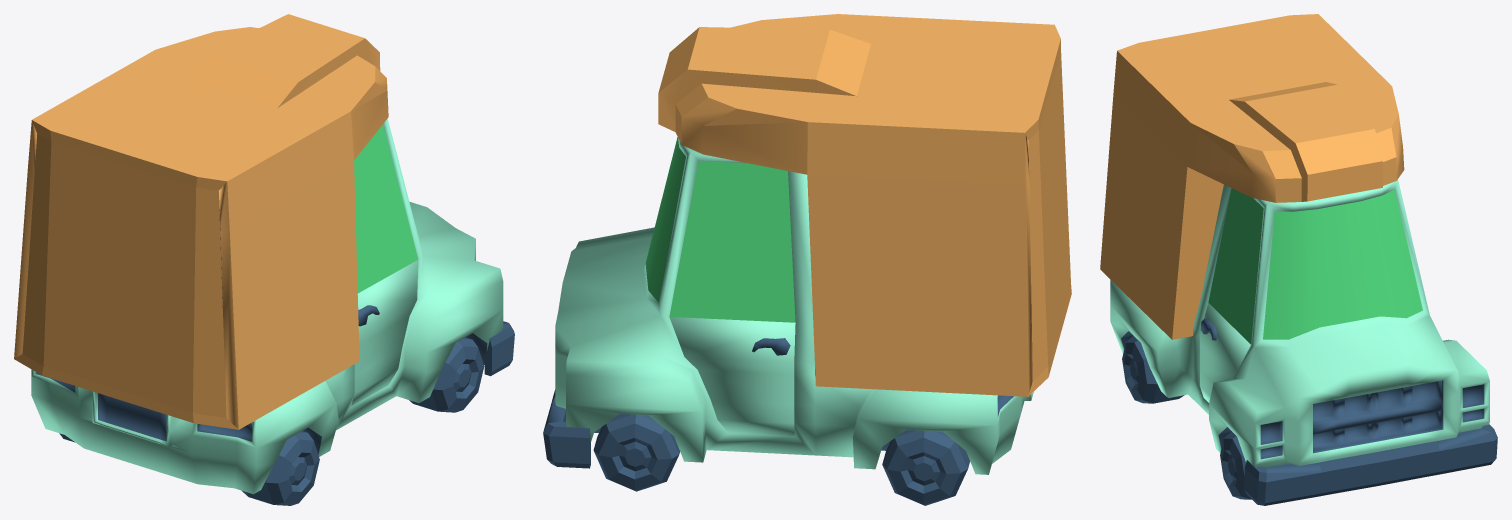
File: ToyObject_130.fbx
3 renders of one model, left to right at view 1: azimuth 30°, elevation 25°; view 2: azimuth 150°, elevation 25°; view 3: azimuth 270°, elevation 25°, orthographic. The views are drawn at different scales.
Parts seen in each view (by area): view 1: object-1.052; view 2: object-1.052; view 3: object-1.052.
Part boxes in pixels (x1,y1,x2,y2): object-1.052: [14, 14, 514, 505]; object-1.052: [543, 14, 1071, 505]; object-1.052: [1100, 14, 1497, 505].
Bounding box in the file's own units: 0.176 × 0.1331 × 0.1455.
